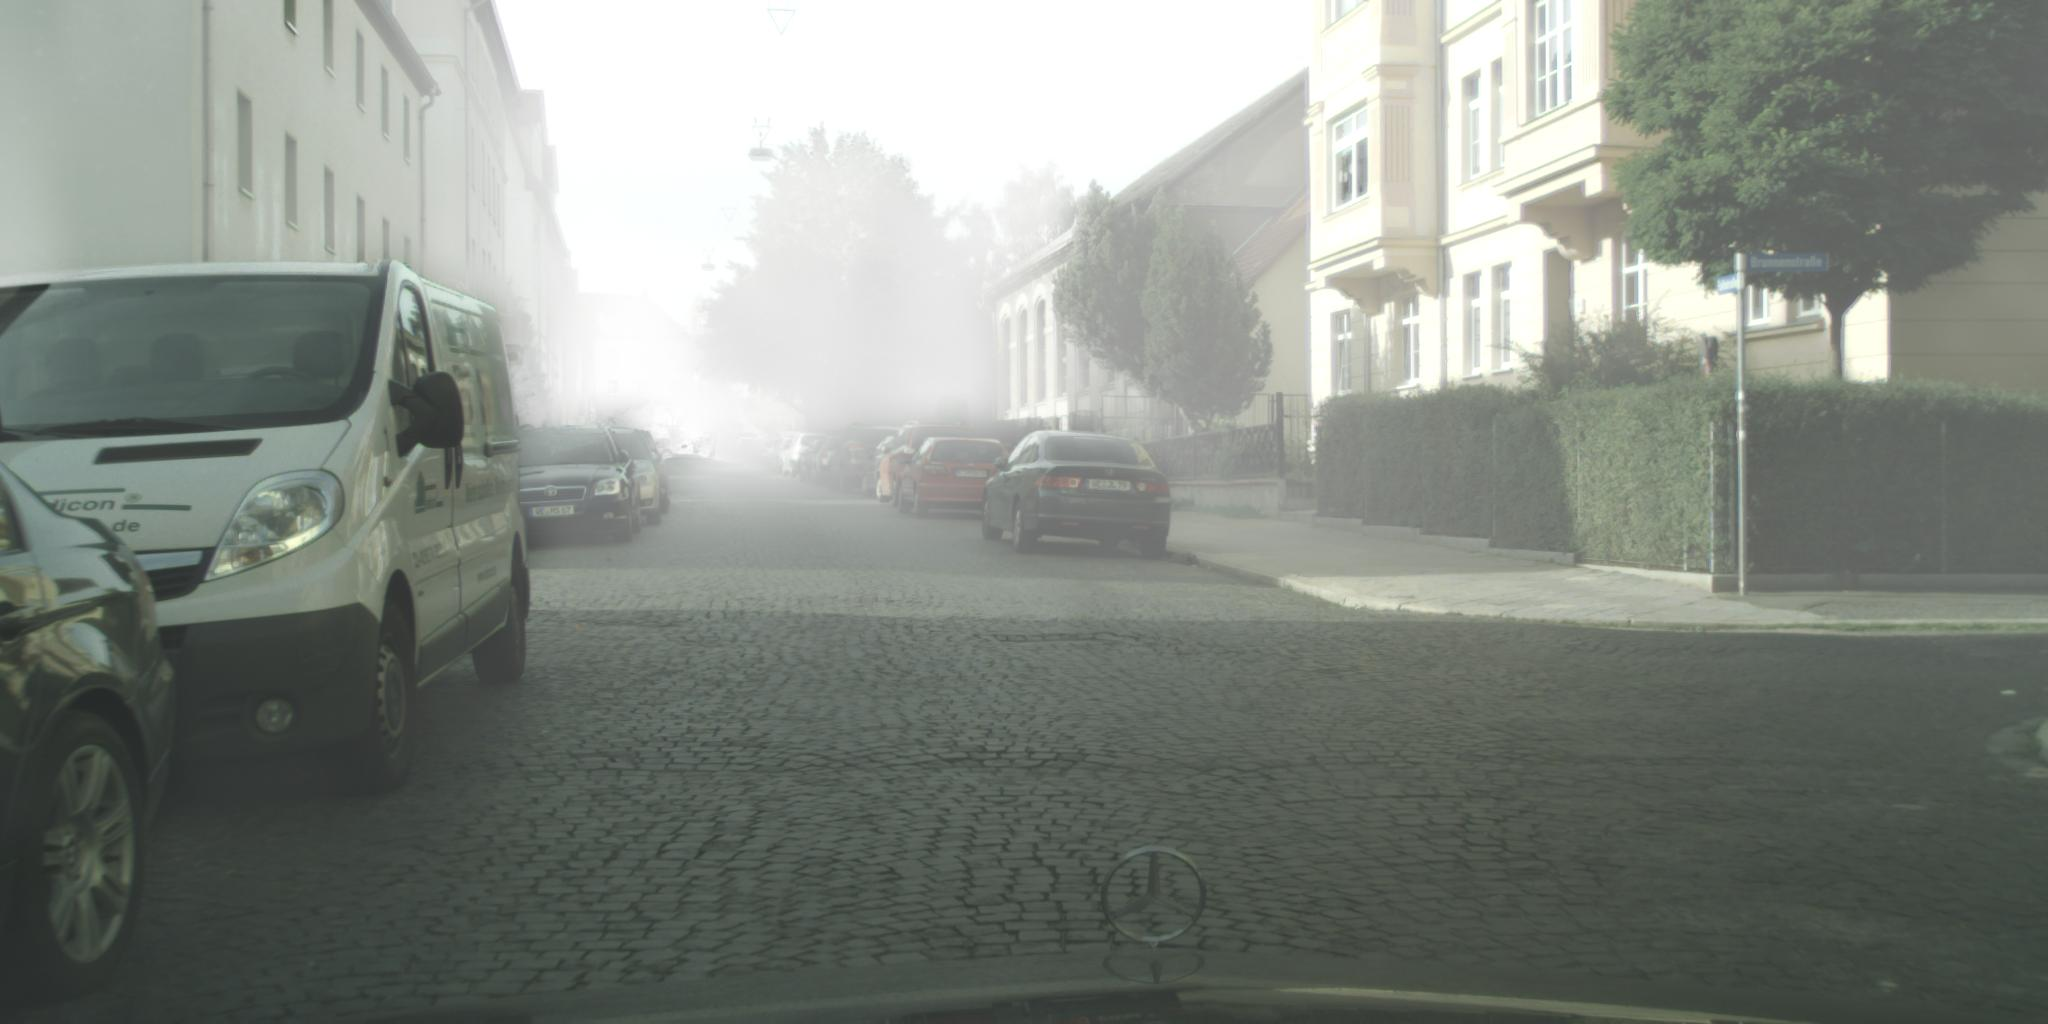car: (1, 260, 532, 798), (1, 460, 179, 1011), (982, 431, 1172, 562), (509, 422, 643, 545), (899, 438, 1014, 520), (876, 421, 980, 508), (610, 428, 662, 526), (829, 424, 903, 494), (631, 431, 674, 515), (863, 438, 900, 498), (788, 434, 831, 479), (812, 436, 848, 488), (799, 440, 828, 485), (713, 421, 744, 461), (724, 431, 756, 462), (772, 438, 798, 475), (754, 439, 782, 472), (733, 438, 760, 465), (744, 439, 765, 469), (782, 443, 799, 478), (654, 447, 667, 457), (653, 443, 661, 448)
